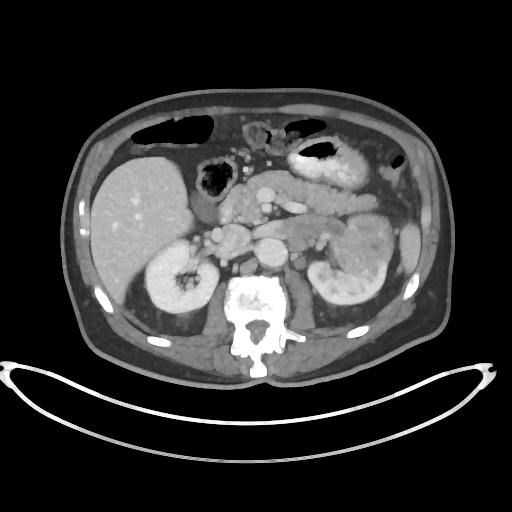Lesion: (336, 213, 401, 280)
